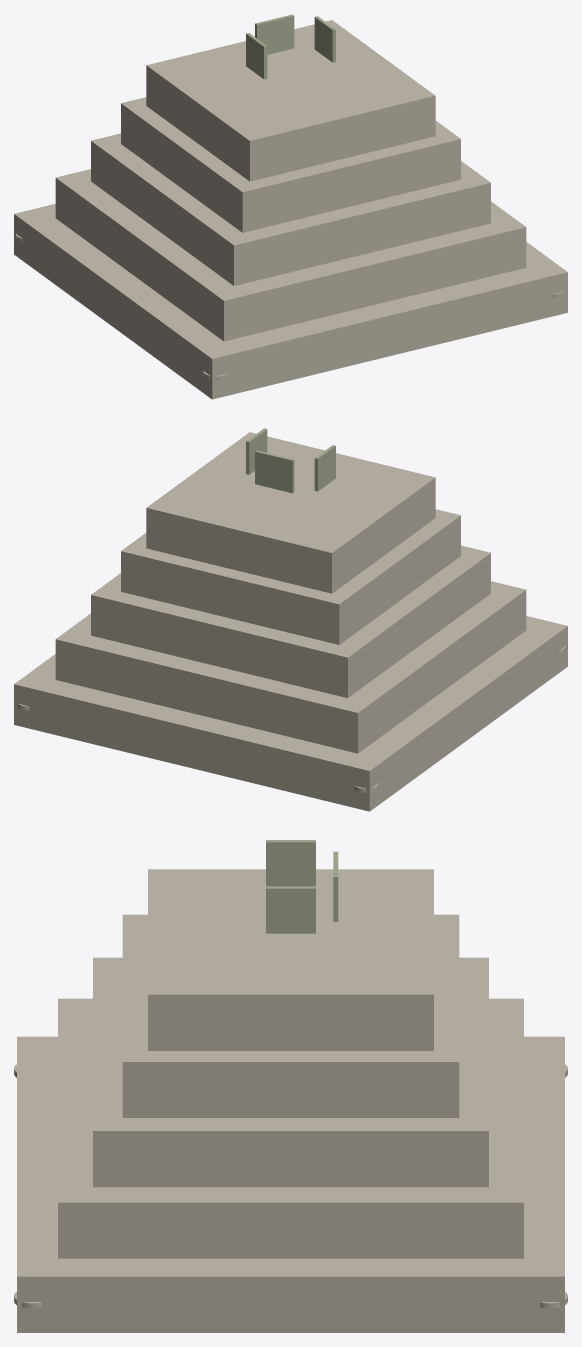
File: punden_berundak_pura_mehu.glb
The picture shows the model from 3 angles, top to bottom: view 1: azimuth 30°, elevation 25°; view 2: azimuth 150°, elevation 25°; view 3: azimuth 270°, elevation 25°; orthographic projection. The views are drawn at different scales.
Visible parts, largest first — view 1: Punden_Berundak_Utama, Padma_Kurung; view 2: Punden_Berundak_Utama, Padma_Kurung; view 3: Punden_Berundak_Utama, Padma_Kurung.
Boxes of the visible parts, x1,y1,x2,y2 form: Punden_Berundak_Utama: [14, 20, 567, 399]; Padma_Kurung: [246, 14, 335, 79]; Punden_Berundak_Utama: [14, 432, 567, 811]; Padma_Kurung: [246, 428, 335, 493]; Punden_Berundak_Utama: [17, 869, 564, 1332]; Padma_Kurung: [266, 840, 338, 933].
Size of the model in its own units: 5.76 by 3.97 by 5.56.
